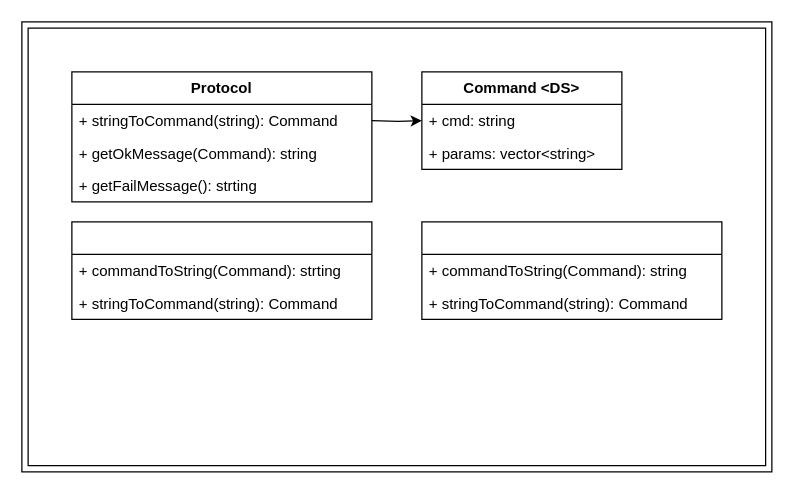
This 794x494 diagram has some shape labels left out. The shapes that lost their labels are listed below. From the top down, each one's box as (x1, y1, x2, y2) in pixels, then its label:
(71, 221, 372, 319): CommandParser
(421, 221, 722, 319): CommandRegistrator
